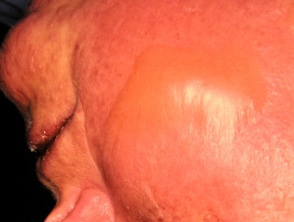SJS-TEN: (96, 24, 282, 220), (0, 0, 84, 163)
